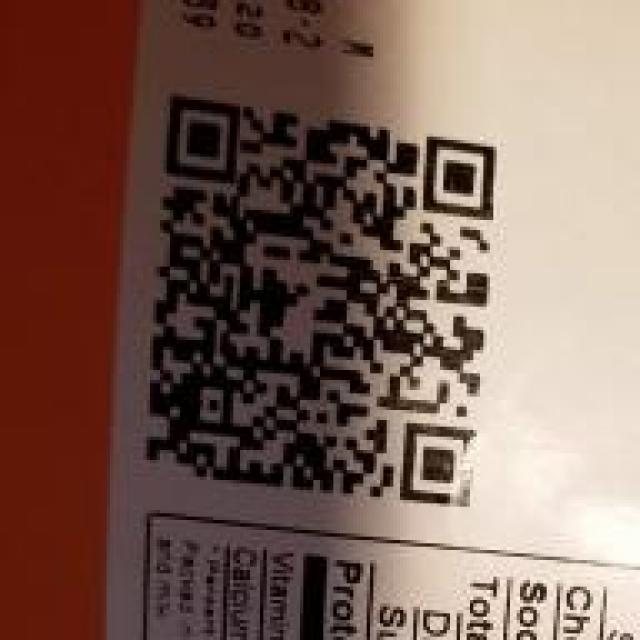QR_CODE: (132, 86, 510, 516)
